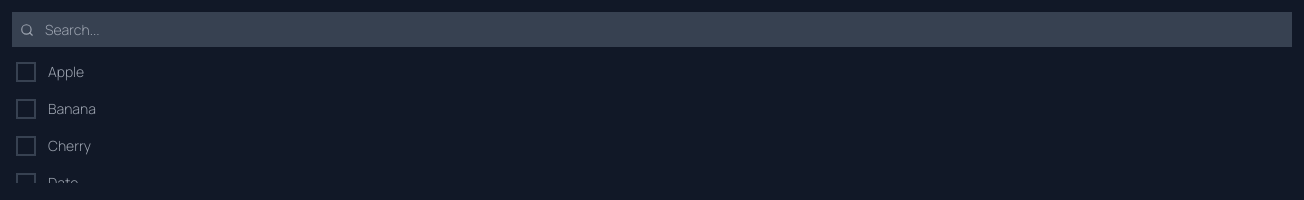
Test case: SearchableFilterList › search filtering › filters items based on search input
In the field with placeholder "Search...": (652,30) [12,12,1292,47], type "ber"
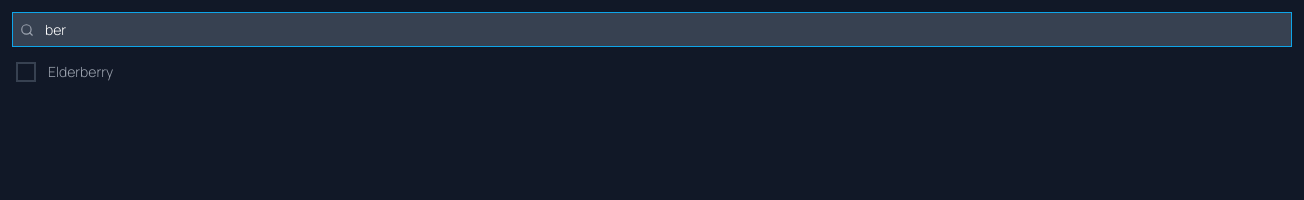
Expected: the text "Elderberry" is shown, [48,61,113,82]
Expected: the button "Apple" is gone
Expected: the button "Banana" is gone
